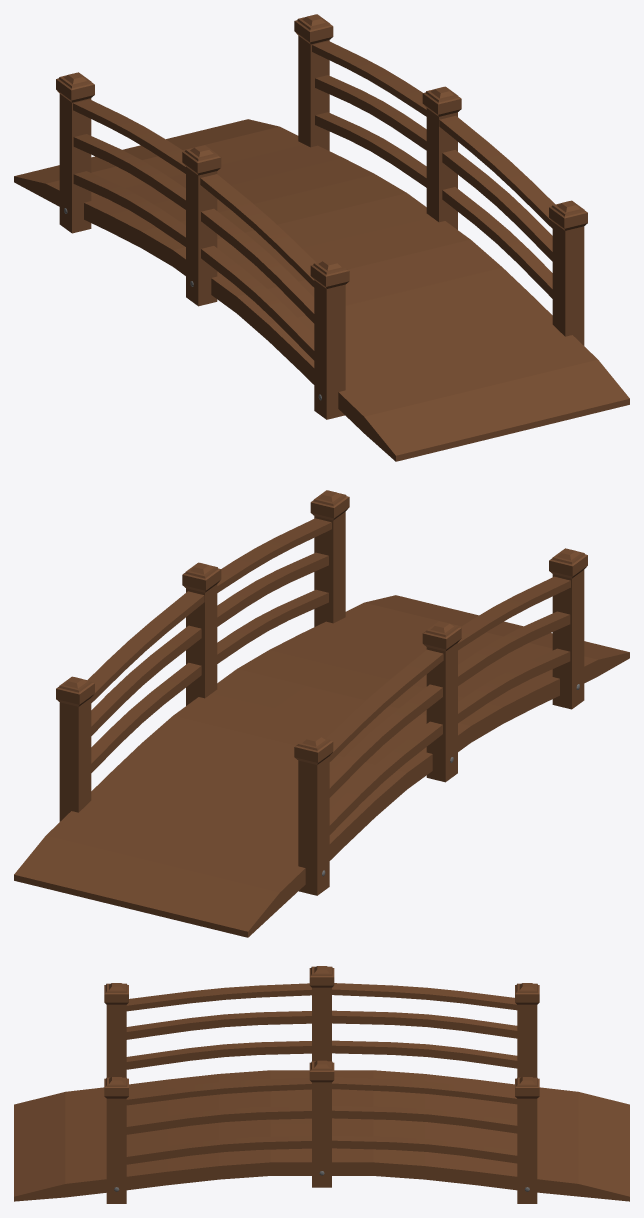
File: bridge_placeholderuvs.fbx
3 views of the same model, one above another, from view 1: azimuth 30°, elevation 25°; view 2: azimuth 150°, elevation 25°; view 3: azimuth 270°, elevation 25° (orthographic). The views are drawn at different scales.
Visible parts, largest first — view 1: bridge1; view 2: bridge1; view 3: bridge1.
Part boxes in pixels (<box>): bridge1: <box>14,14,629,461</box>; bridge1: <box>14,490,629,937</box>; bridge1: <box>14,966,629,1203</box>.
Size of the model in its own units: 3.42 by 2.16 by 8.57.
